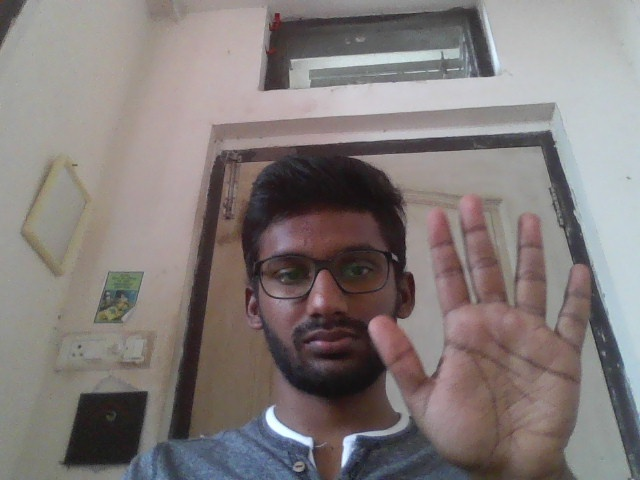Hello: (365, 190, 603, 480)
